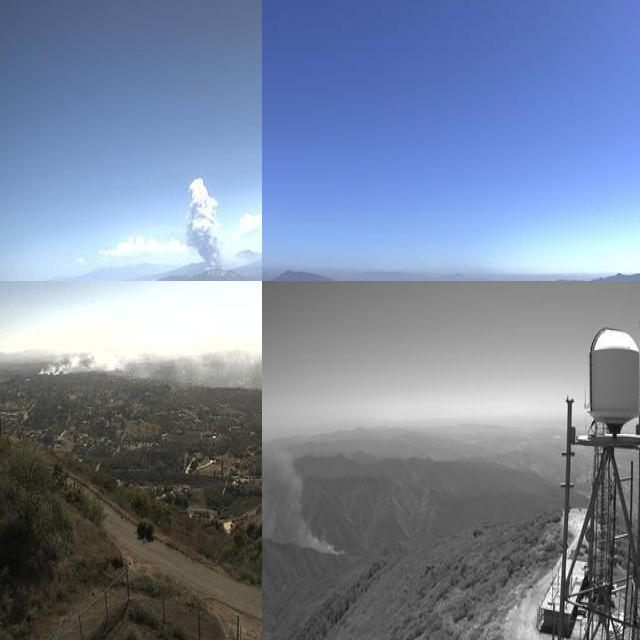smoke: (34, 283, 262, 405), (262, 436, 338, 558), (181, 170, 231, 278)
